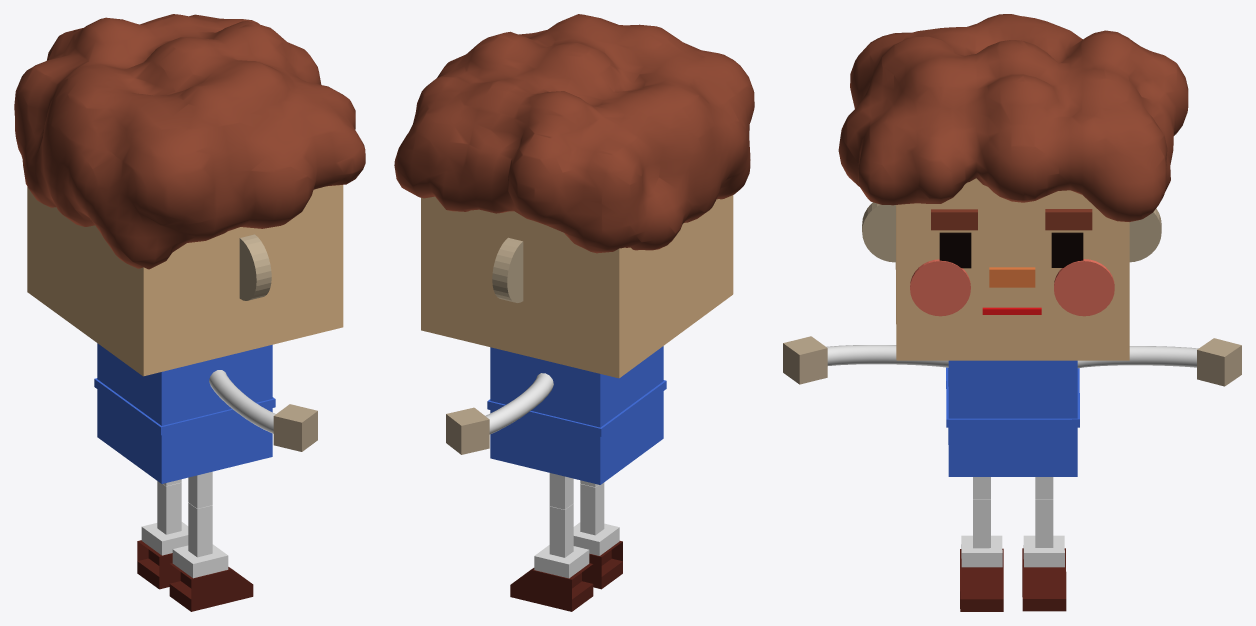
The model's file is user_default.fbx.
3 views of the same model, side by side, from view 1: azimuth 30°, elevation 25°; view 2: azimuth 150°, elevation 25°; view 3: azimuth 270°, elevation 25° (orthographic).
Parts seen in each view (by area): view 1: Mball, head, Cube.002, Cube.009, Cylinder.001, Cube.012, BezierCurve.002, Cube.006, Cube.008, Cube.005, Cube.010, Cube.007 (+1 smaller); view 2: Mball, head, Cube.002, Cube.010, Cylinder, Cube.011, BezierCurve, Cube.007, Cube.005, Cube.008, Cube.009, Cube.006 (+1 smaller); view 3: Mball, head, Cube.002, Cube.010, Cube.009, Cube.012, Cube.011, BezierCurve.002, Cylinder.001, BezierCurve, Cylinder, Cube.007 (+5 smaller).
Part boxes in pixels (x1,y1,x2,y2): Mball: (14,14,365,269); head: (27,185,343,376); Cube.002: (94,343,275,483); Cube.009: (169,563,253,611); Cylinder.001: (239,234,271,300); Cube.012: (273,404,317,451); BezierCurve.002: (209,370,275,433); Cube.006: (172,544,228,578); Cube.008: (188,502,212,557); Cube.005: (157,481,181,534); Cube.010: (137,540,172,589); Cube.007: (141,522,188,555); Mball: (394,14,754,253); head: (421,195,733,378); Cube.002: (487,346,666,484); Cube.010: (510,563,593,611); Cylinder: (492,237,523,302); Cube.011: (446,407,489,454); BezierCurve: (485,373,553,434); Cube.007: (534,545,589,578); Cube.005: (549,503,573,557); Cube.008: (580,482,604,535); Cube.009: (589,541,622,589); Cube.006: (573,522,619,555); Mball: (838,14,1188,221); head: (895,178,1129,360); Cube.002: (946,360,1079,476); Cube.010: (1022,548,1066,611); Cube.009: (960,548,1003,611); Cube.012: (783,336,827,384); Cube.011: (1197,338,1241,386); BezierCurve.002: (826,345,948,367); Cylinder.001: (862,202,895,262); BezierCurve: (1077,346,1198,368); Cylinder: (1129,208,1161,262); Cube.007: (1023,535,1064,567).
Bounding box in the file's own units: 6230 × 11888 × 9006.
